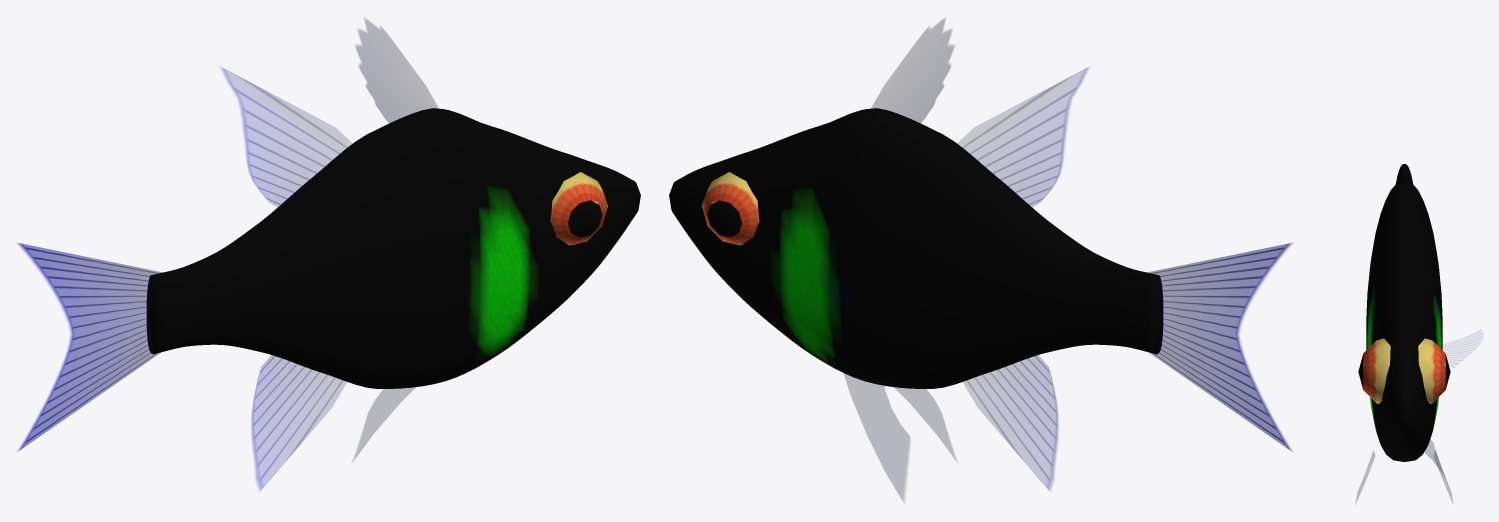
File: cardinal.glb
3 renders of one model, left to right at view 1: azimuth 30°, elevation 25°; view 2: azimuth 150°, elevation 25°; view 3: azimuth 270°, elevation 25°, orthographic. The views are drawn at different scales.
Visible parts, largest first — view 1: Body, FinCaudal, FinDorsal2, FinAnal, FinDorsal, EyeR, FinPelvicL; view 2: Body, FinCaudal, FinDorsal2, FinAnal, FinDorsal, FinPelvicL, EyeL, FinPelvicR; view 3: Body, EyeL, EyeR, FinPelvicL.
Boxes of the visible parts, x1,y1,x2,y2 form: Body: (146,108,640,388); FinCaudal: (17,243,163,451); FinDorsal2: (221,67,354,208); FinAnal: (251,355,346,490); FinDorsal: (355,18,438,125); EyeR: (550,172,607,245); FinPelvicL: (353,387,415,460); Body: (669,108,1163,388); FinCaudal: (1146,243,1292,451); FinDorsal2: (955,67,1088,208); FinAnal: (963,355,1058,490); FinDorsal: (871,18,954,125); FinPelvicL: (843,372,910,501); EyeL: (702,172,759,245); FinPelvicR: (894,387,956,460); Body: (1366,164,1442,461); EyeL: (1418,338,1450,403); EyeR: (1358,338,1390,403); FinPelvicL: (1425,439,1453,503).
Bounding box in the file's own units: 1 × 0.728 × 0.2433.
Materials: 4 (3 with a texture image).
